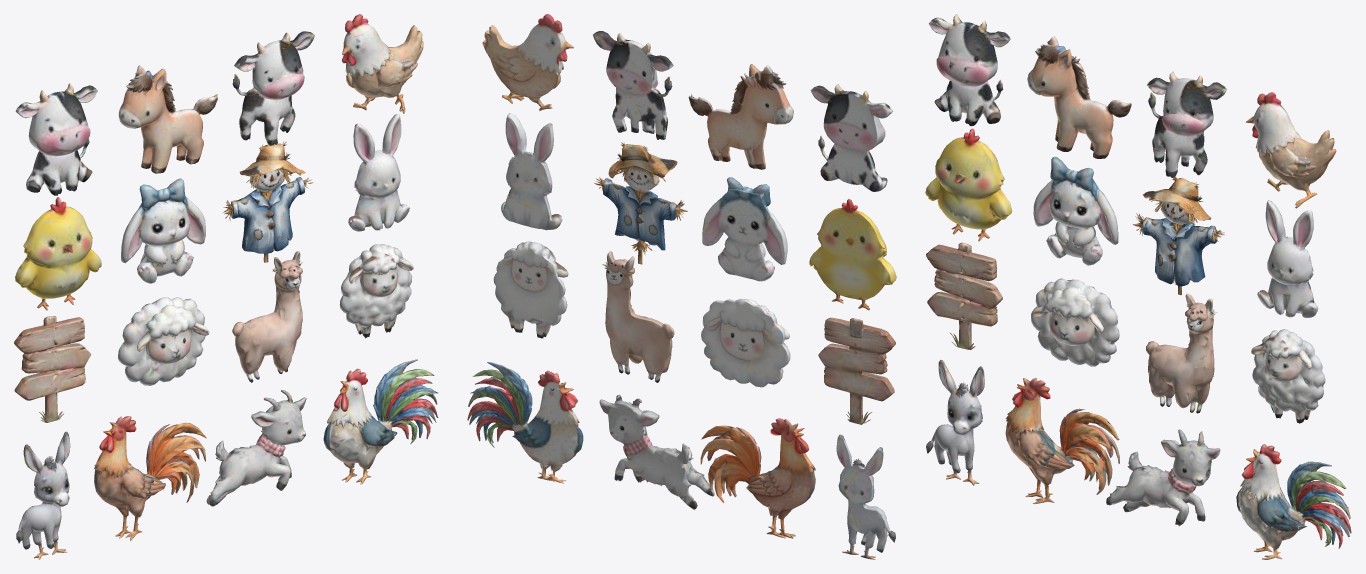
3 views of the same model, side by side, from view 1: azimuth 30°, elevation 25°; view 2: azimuth 150°, elevation 25°; view 3: azimuth 330°, elevation 25° (orthographic).
Visible parts, largest first — view 1: Mesh 13, Mesh 5, Mesh 7, Mesh 3, Mesh 6, Mesh 8, Mesh 4, Mesh 10, Mesh 12, Mesh 2, Mesh 9, Mesh 15 (+4 smaller); view 2: Mesh 13, Mesh 5, Mesh 7, Mesh 8, Mesh 3, Mesh 6, Mesh 4, Mesh 10, Mesh 2, Mesh 15, Mesh 9, Mesh 12 (+4 smaller); view 3: Mesh 13, Mesh 5, Mesh 7, Mesh 3, Mesh 4, Mesh 8, Mesh 6, Mesh 10, Mesh 9, Mesh 2, Mesh 12, Mesh 11 (+4 smaller).
Boxes of the visible parts, x1,y1,x2,y2 form: Mesh 13: (323,359,438,484); Mesh 5: (94,416,206,540); Mesh 7: (118,297,209,385); Mesh 3: (15,197,101,310); Mesh 6: (118,65,217,173); Mesh 8: (121,178,205,283); Mesh 4: (15,83,97,195); Mesh 10: (223,141,313,262); Mesh 12: (232,31,314,145); Mesh 2: (14,316,90,422); Mesh 9: (206,390,306,506); Mesh 15: (339,244,413,338); Mesh 13: (467,362,583,483); Mesh 5: (700,418,815,538); Mesh 7: (701,299,790,387); Mesh 8: (702,177,787,281); Mesh 3: (809,199,896,310); Mesh 6: (688,64,793,169); Mesh 4: (810,84,893,191); Mesh 10: (594,141,687,264); Mesh 2: (818,317,895,424); Mesh 15: (493,241,568,338); Mesh 9: (599,394,714,509); Mesh 12: (593,31,673,139); Mesh 13: (1236,444,1351,559); Mesh 5: (1005,378,1119,504); Mesh 7: (1031,278,1119,366); Mesh 3: (925,128,1012,241); Mesh 4: (928,14,1010,126); Mesh 8: (1033,156,1118,265); Mesh 6: (1027,36,1131,158); Mesh 10: (1133,176,1224,295); Mesh 9: (1106,429,1220,526); Mesh 2: (926,242,1002,349); Mesh 12: (1147,71,1226,177); Mesh 11: (1146,293,1217,413).
Size of the model in its own units: 1.8 by 1.9 by 0.1418.
Materials: 16 (16 with a texture image).
